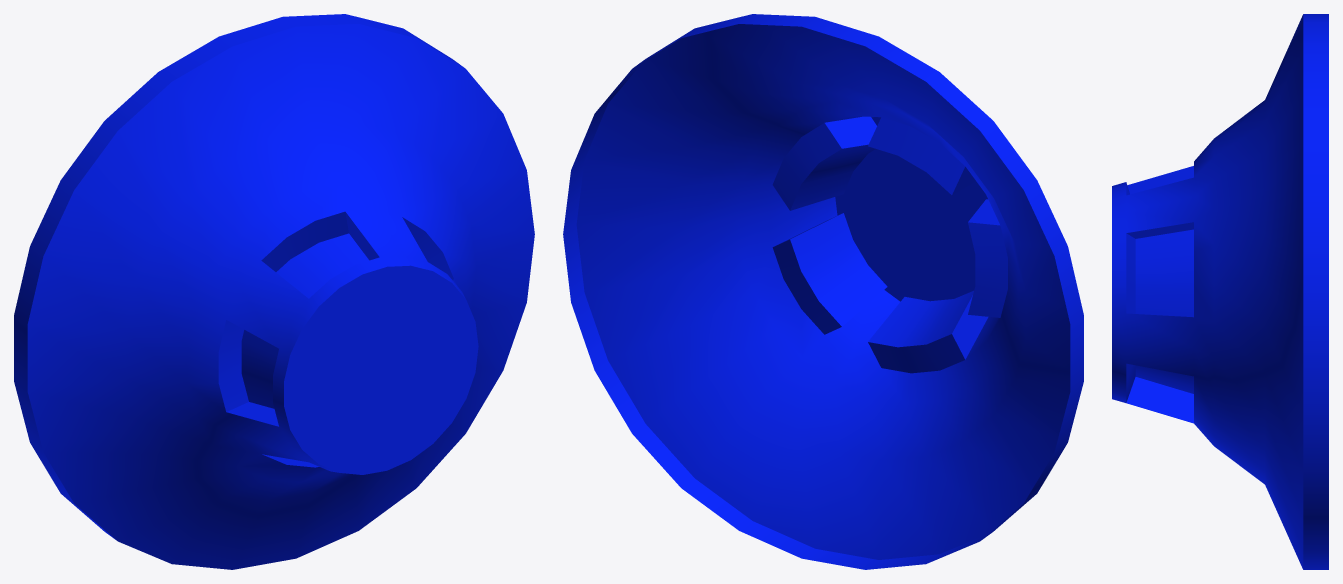
File: Smokedetector.FBX
3 views of the same model, side by side, from view 1: azimuth 30°, elevation 25°; view 2: azimuth 150°, elevation 25°; view 3: azimuth 270°, elevation 25° (orthographic). The views are drawn at different scales.
Visible parts, largest first — view 1: SM_smokedetector; view 2: SM_smokedetector; view 3: SM_smokedetector.
Boxes of the visible parts, x1,y1,x2,y2 form: SM_smokedetector: (14, 14, 534, 569); SM_smokedetector: (563, 14, 1083, 569); SM_smokedetector: (1112, 14, 1328, 569).
Bounding box in the file's own units: 11.16 × 11.18 × 4.35.
